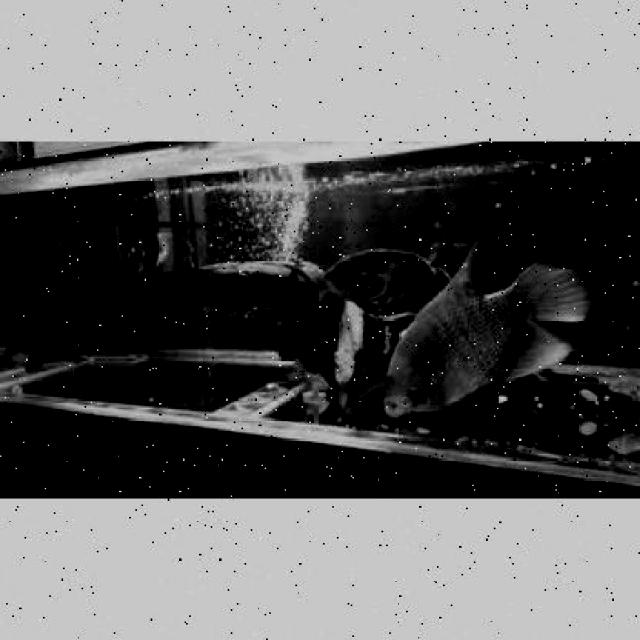gurame: (380, 263, 586, 420)
